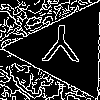Y: (41, 24, 80, 71)
